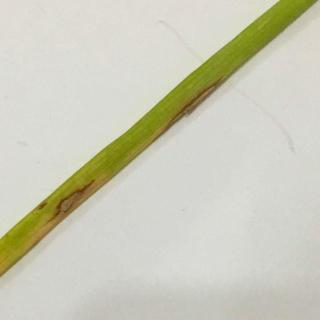Blast: (166, 83, 232, 120), (38, 191, 110, 220)
